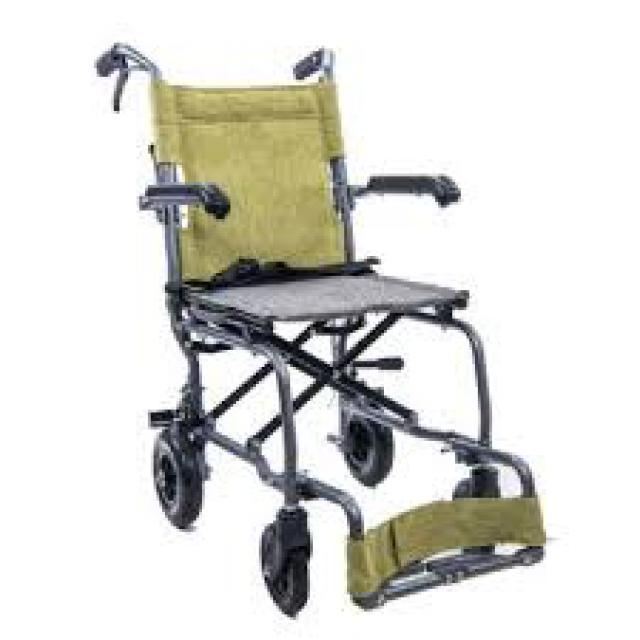wheelchair: (79, 34, 566, 626)
